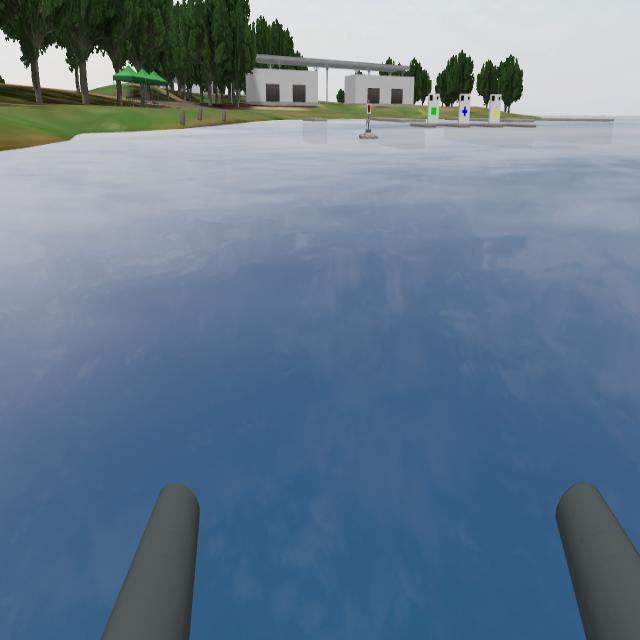red_pole: (362, 100, 376, 128)
